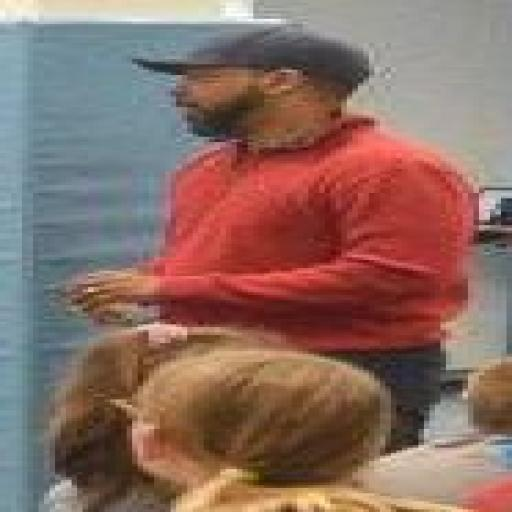person: (67, 25, 473, 447), (122, 349, 456, 511), (39, 325, 280, 511), (364, 357, 511, 503), (468, 475, 511, 511)
